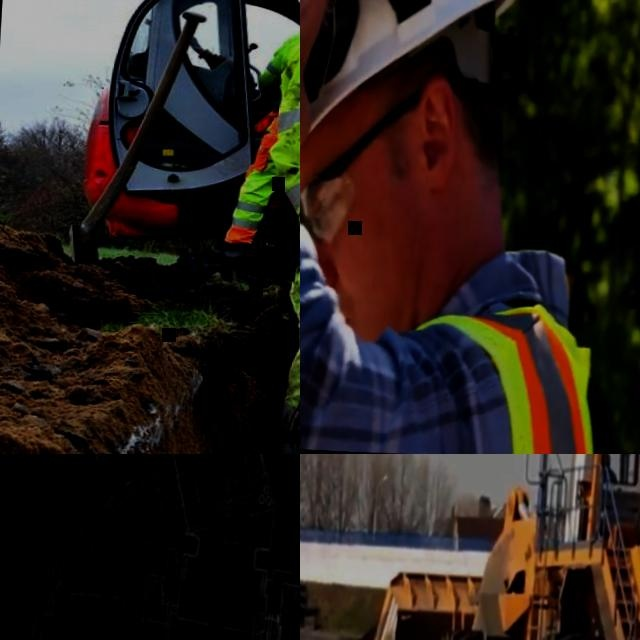Hardhat: (300, 0, 533, 182)
NO-Mask: (320, 222, 421, 353)
Person: (300, 0, 635, 454), (210, 93, 289, 271), (253, 0, 300, 106), (601, 454, 618, 482)
Safety Vest: (409, 296, 606, 454), (243, 80, 300, 245), (272, 21, 300, 102)
machinery: (57, 0, 300, 311), (352, 454, 640, 640)
